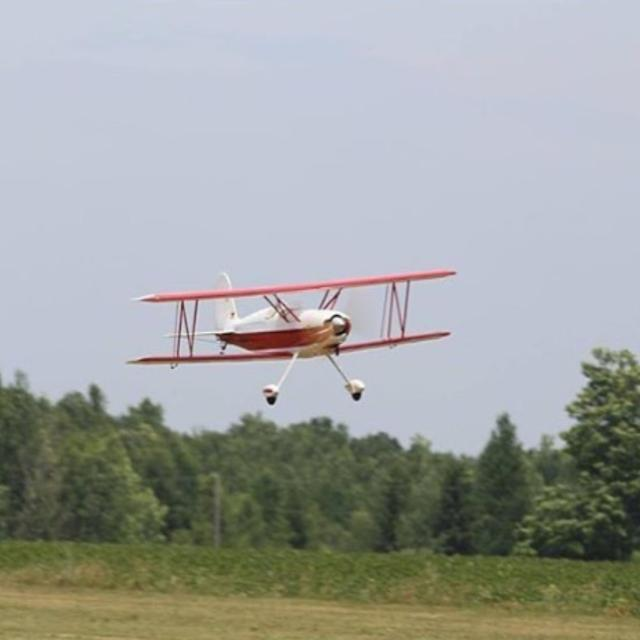iha: (126, 266, 459, 406)
